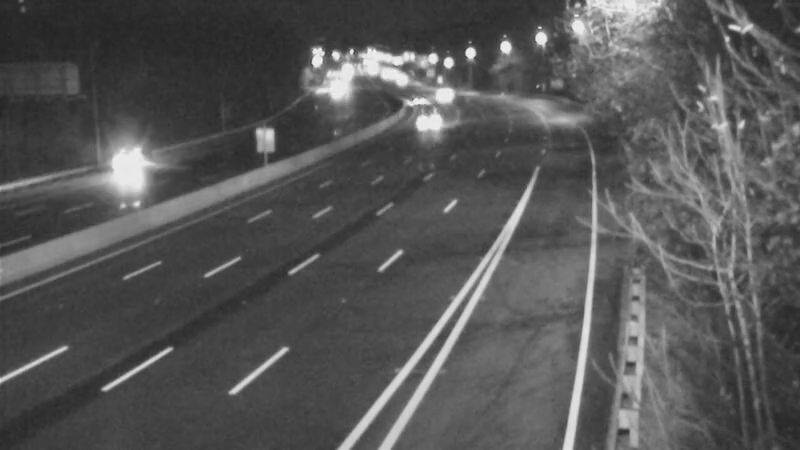vehicle: (87, 123, 167, 203), (417, 65, 467, 115), (387, 77, 437, 127), (399, 97, 449, 147)
